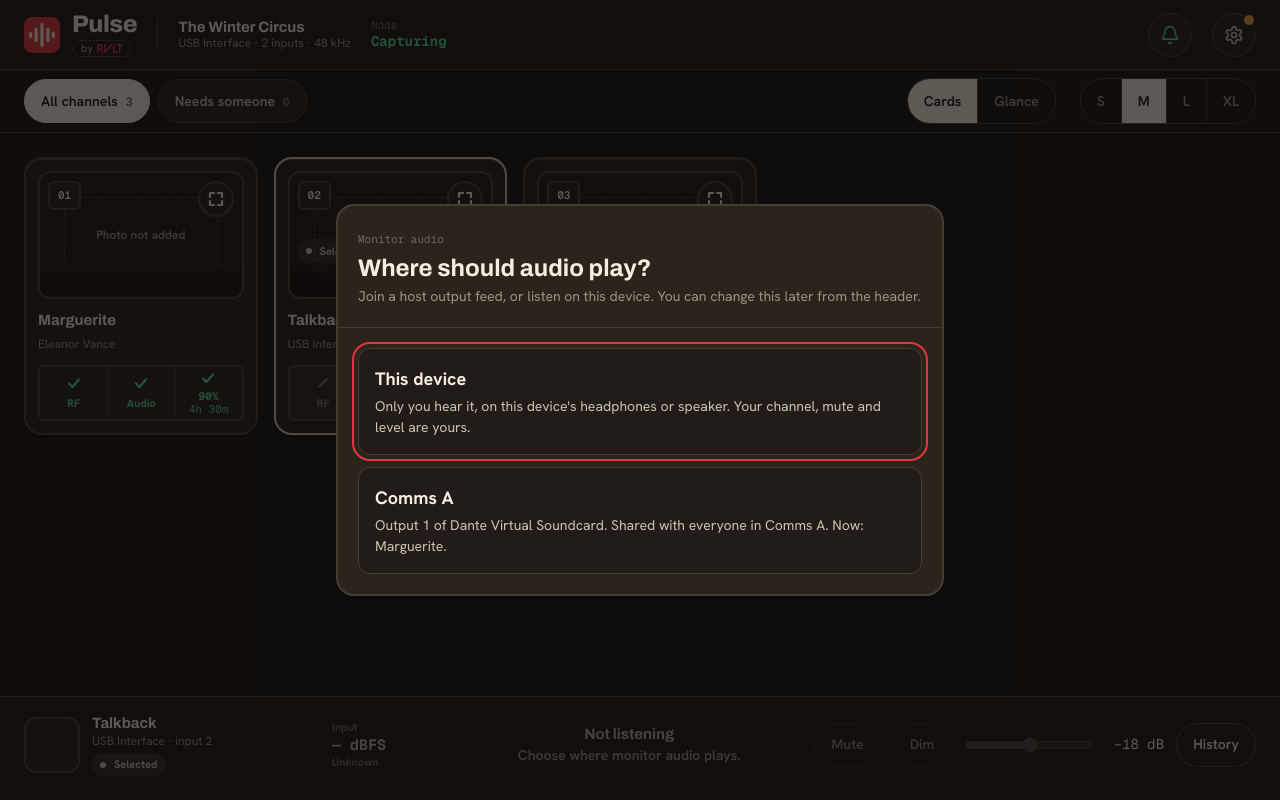
Live channel grid › plays on this device when chosen, without touching the host output
The image size is (1280, 800).
Click the button "This device" at (640, 402), box [358,348,922,455]
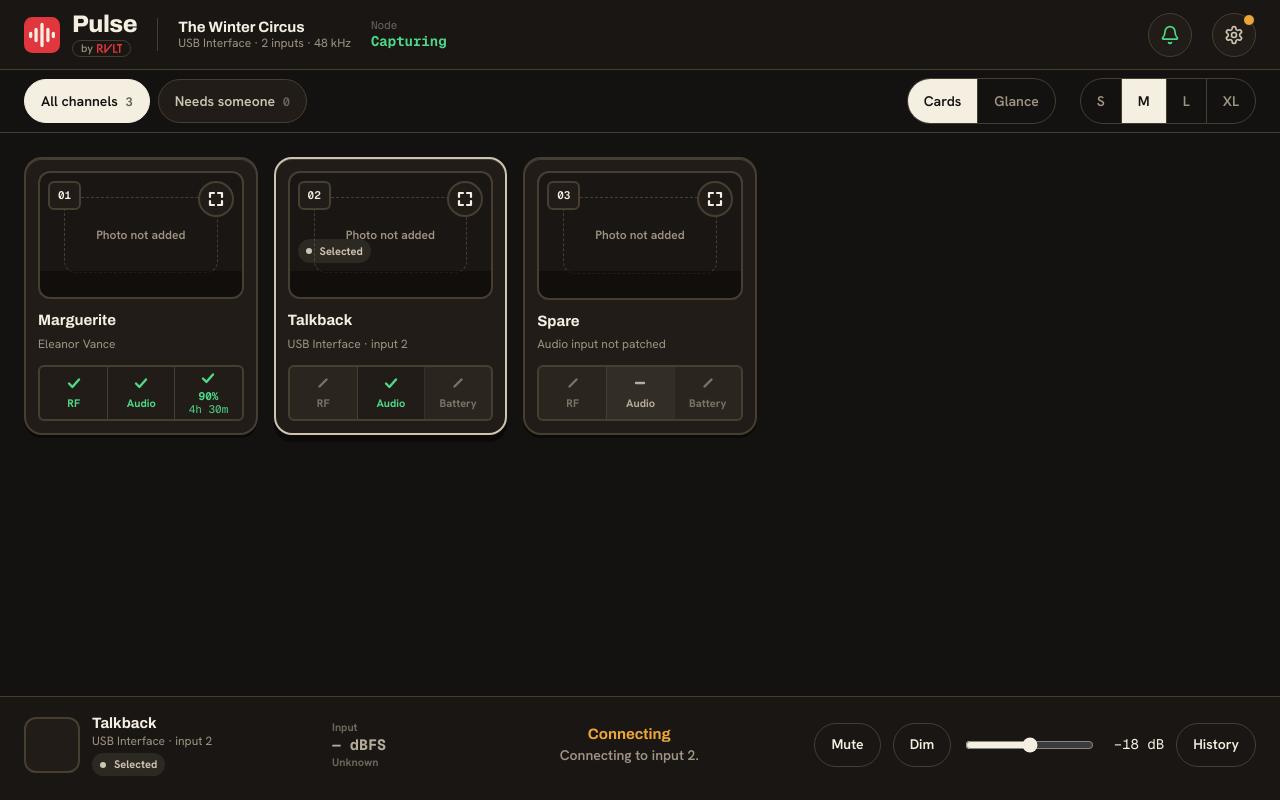
Click the button named "Settings" at (1234, 34), box [1212,12,1256,56]
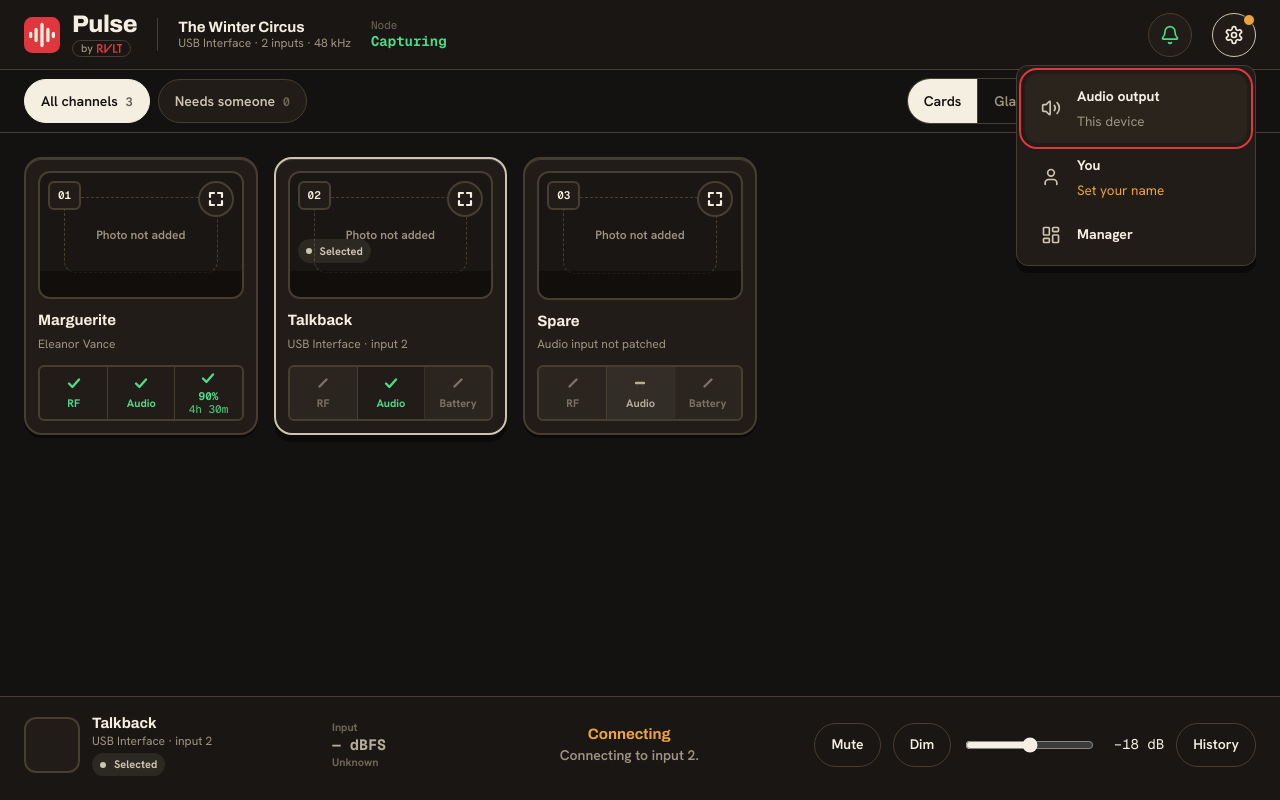
Click the menu item "Audio output This device" at (1136, 108), box [1025,74,1247,143]
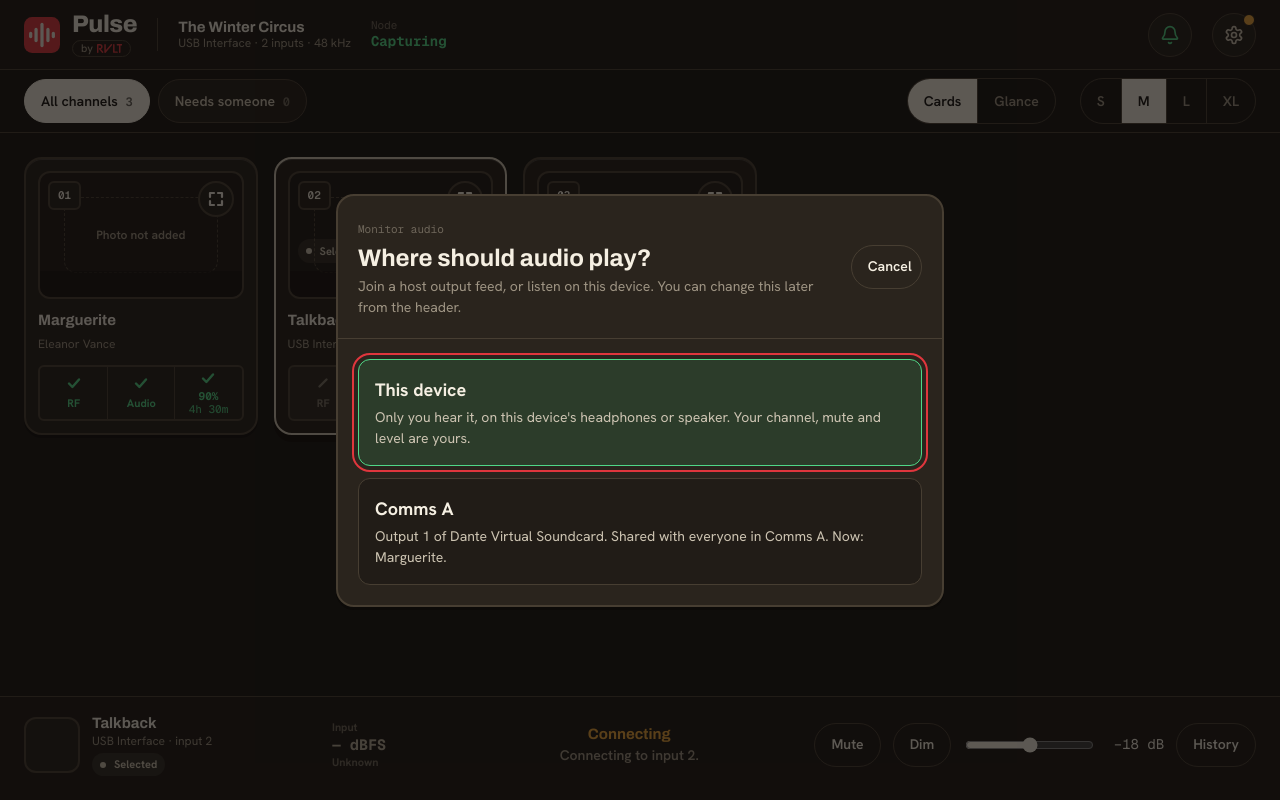
Click the button "Cancel" at (886, 266), box [851,244,922,288]
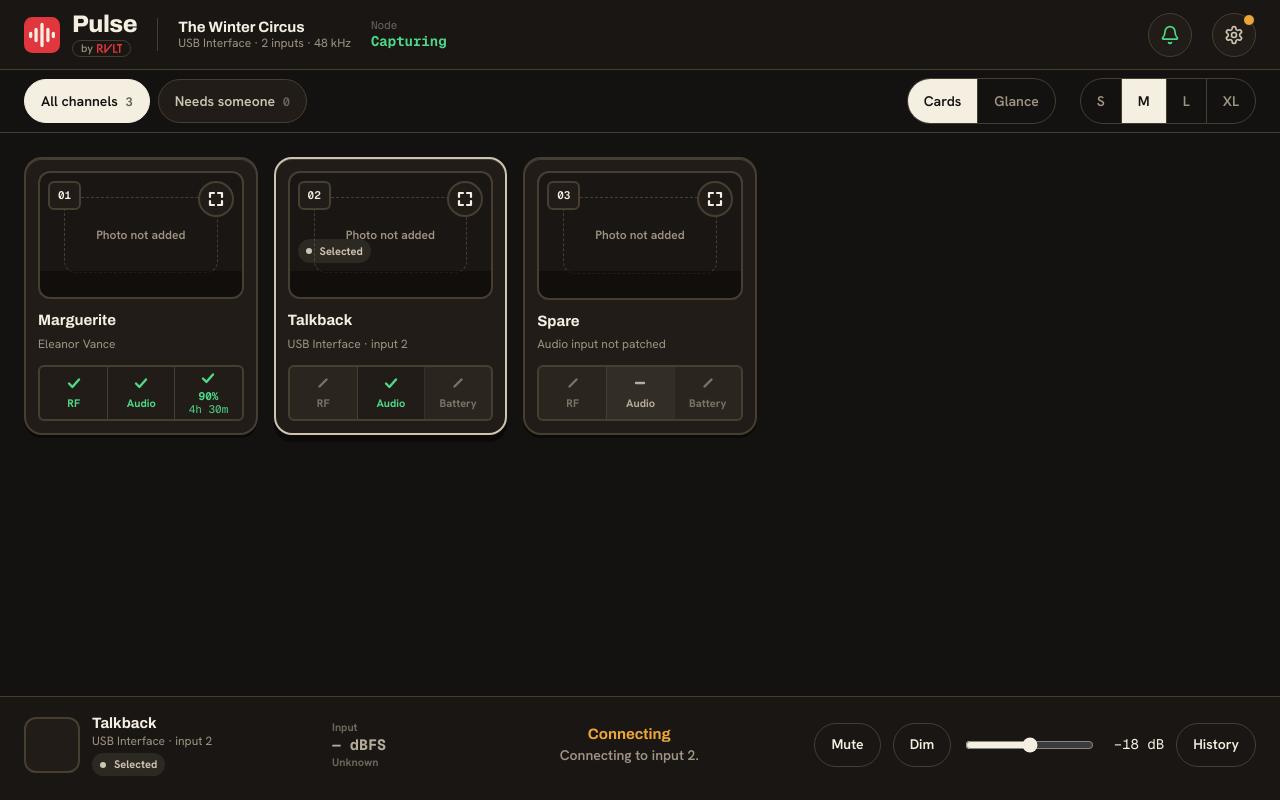
Result: the dialog is gone
